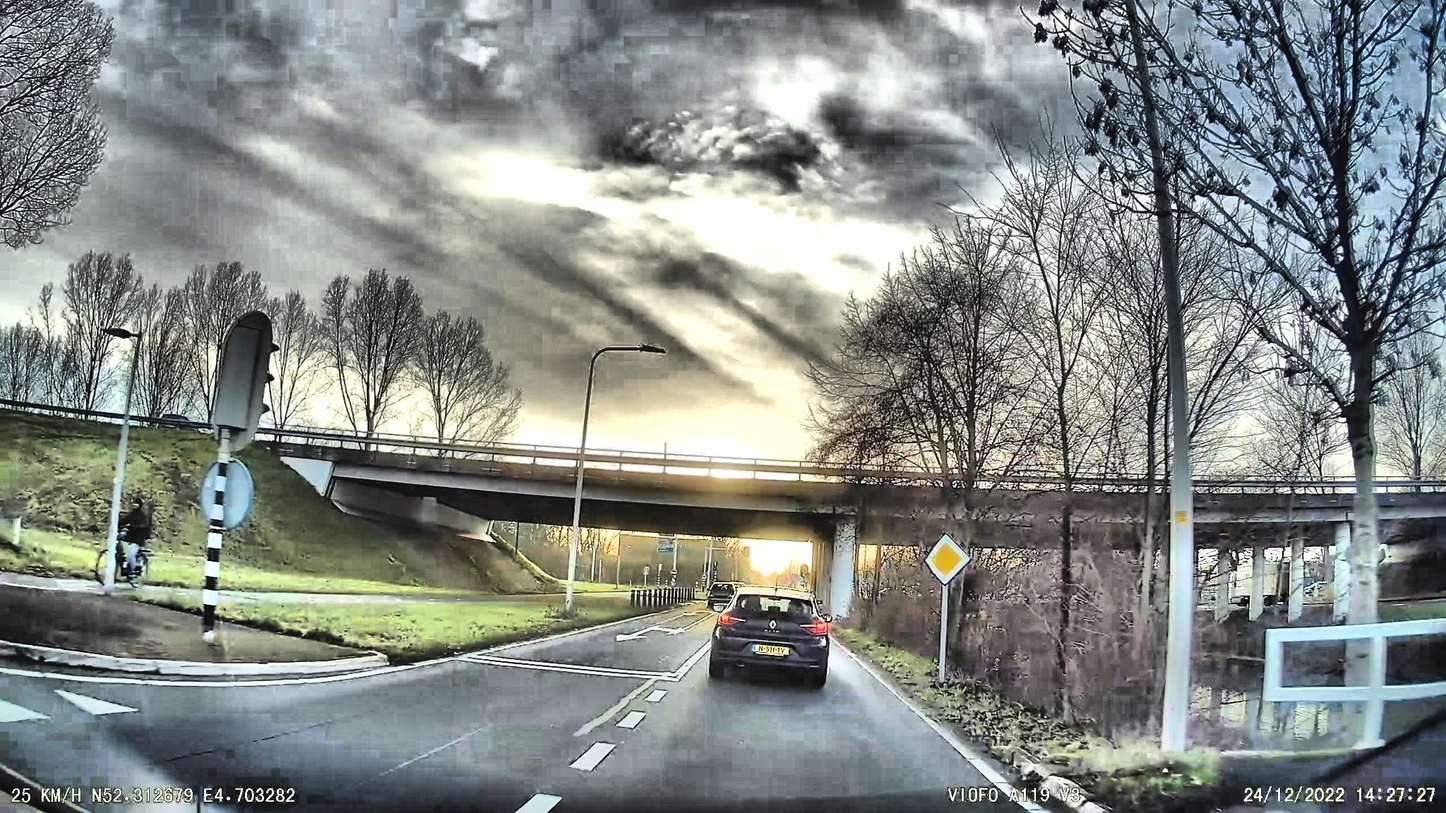Roads: (0, 606, 1046, 813)
